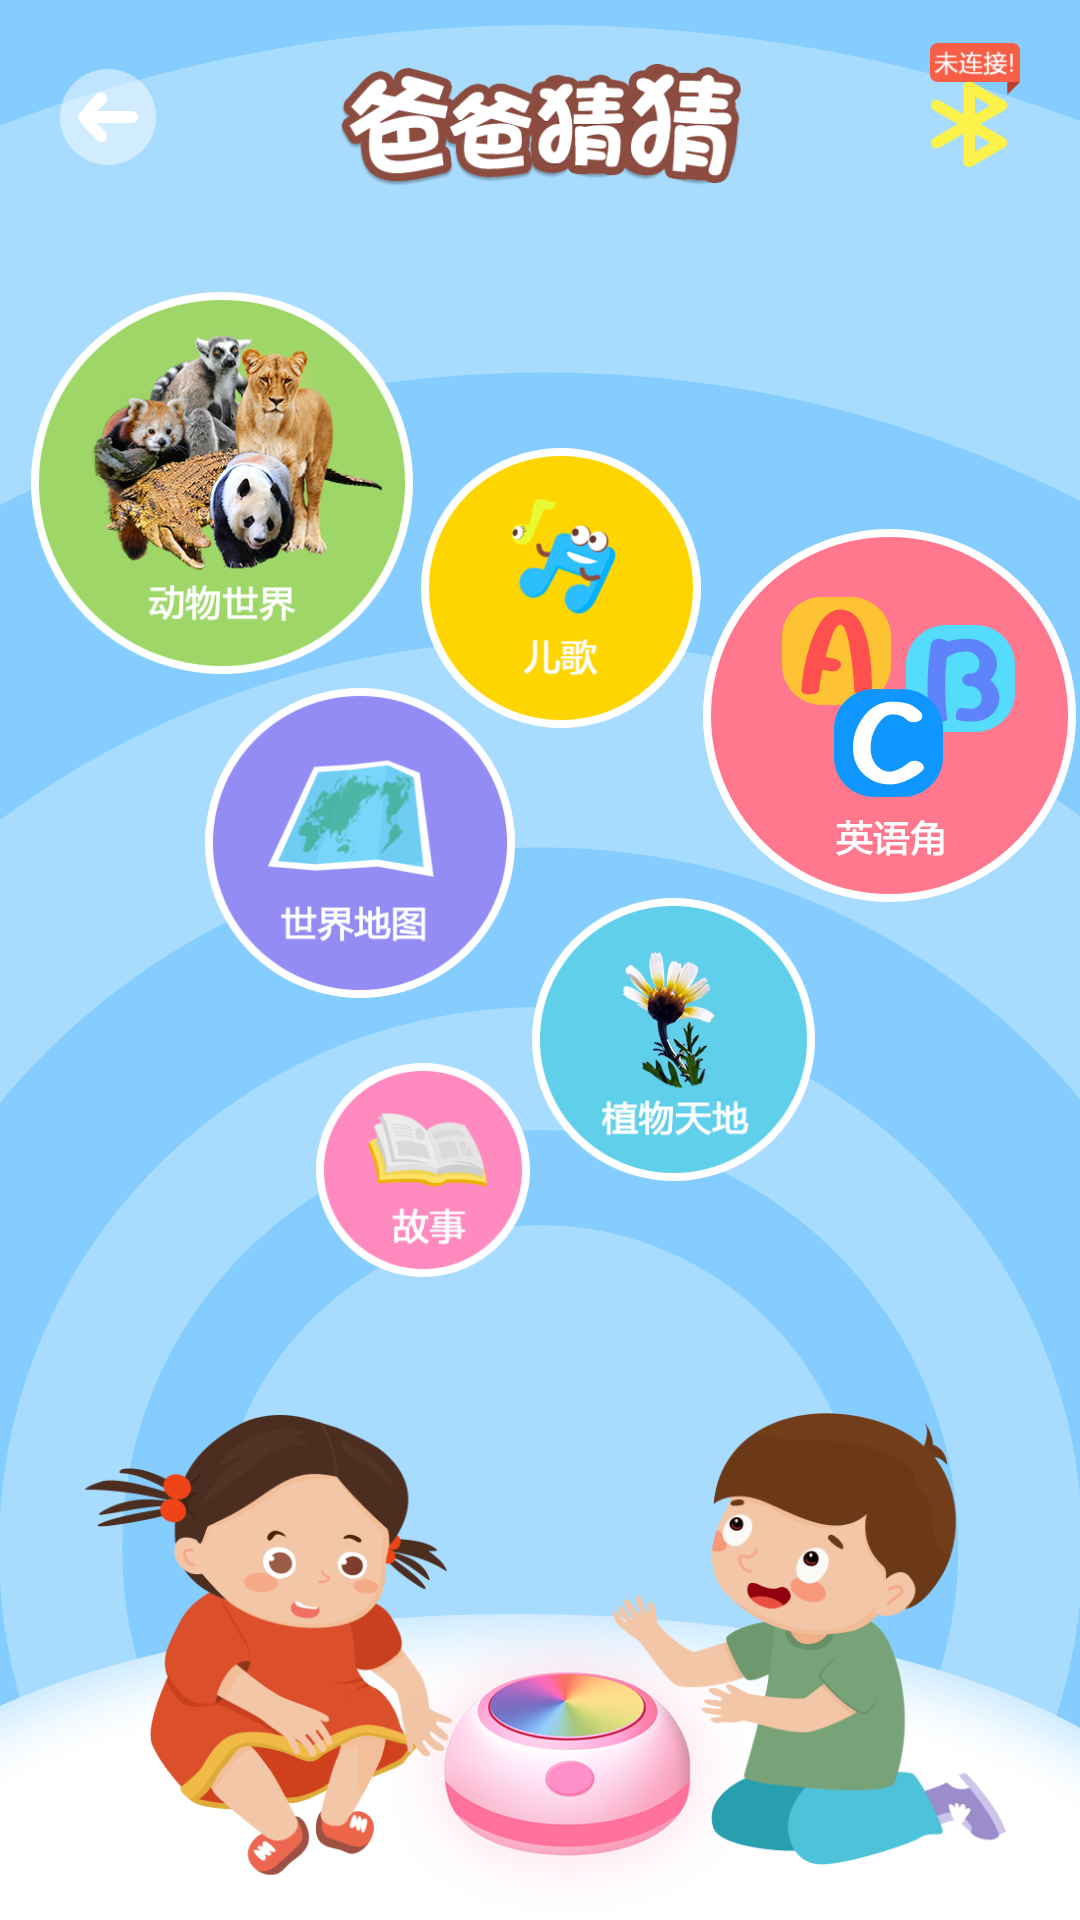

Where to tap for icons on this 1080 × 1920 app screen, as [x,y]:
goback: [108,117]
